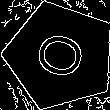O_E: (28, 27, 93, 85)
